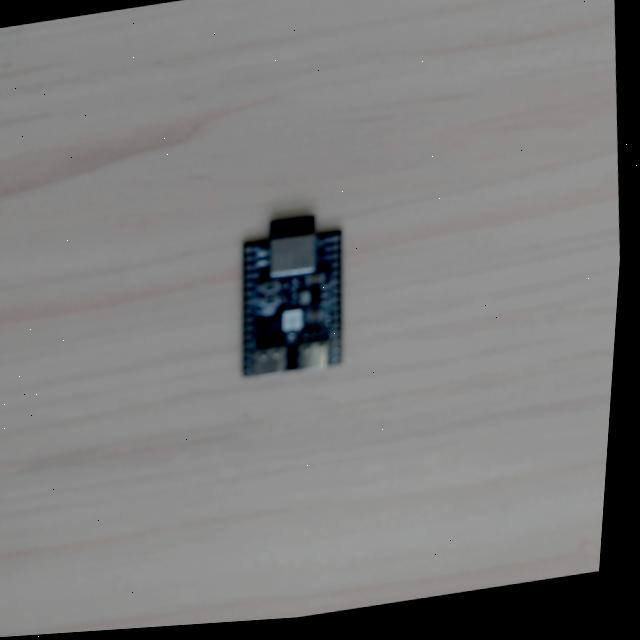ESP32C3-DevKit: (239, 212, 341, 374)
